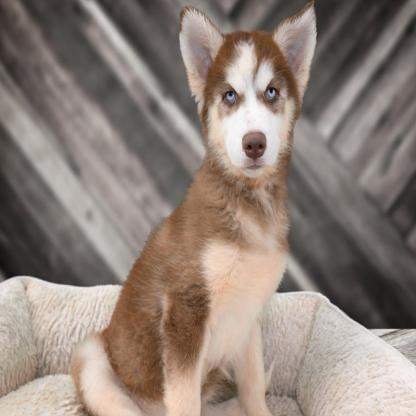dog: (70, 2, 319, 411)
